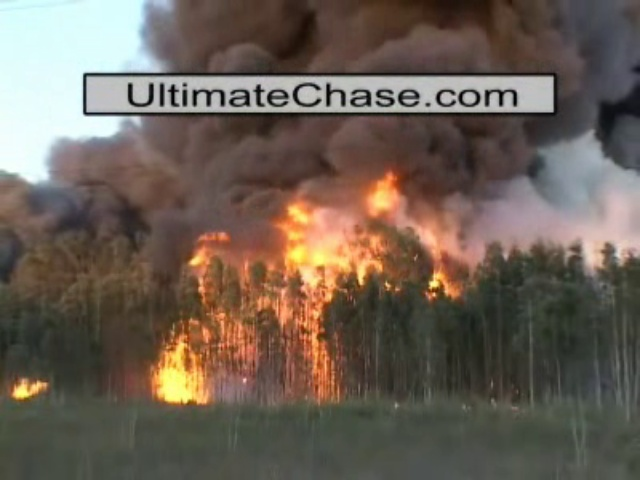fire: (277, 175, 460, 290), (144, 353, 203, 405)
